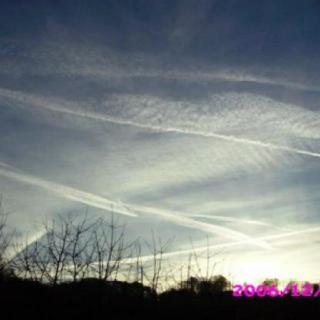Cirrocumulus: (0, 2, 320, 258)
